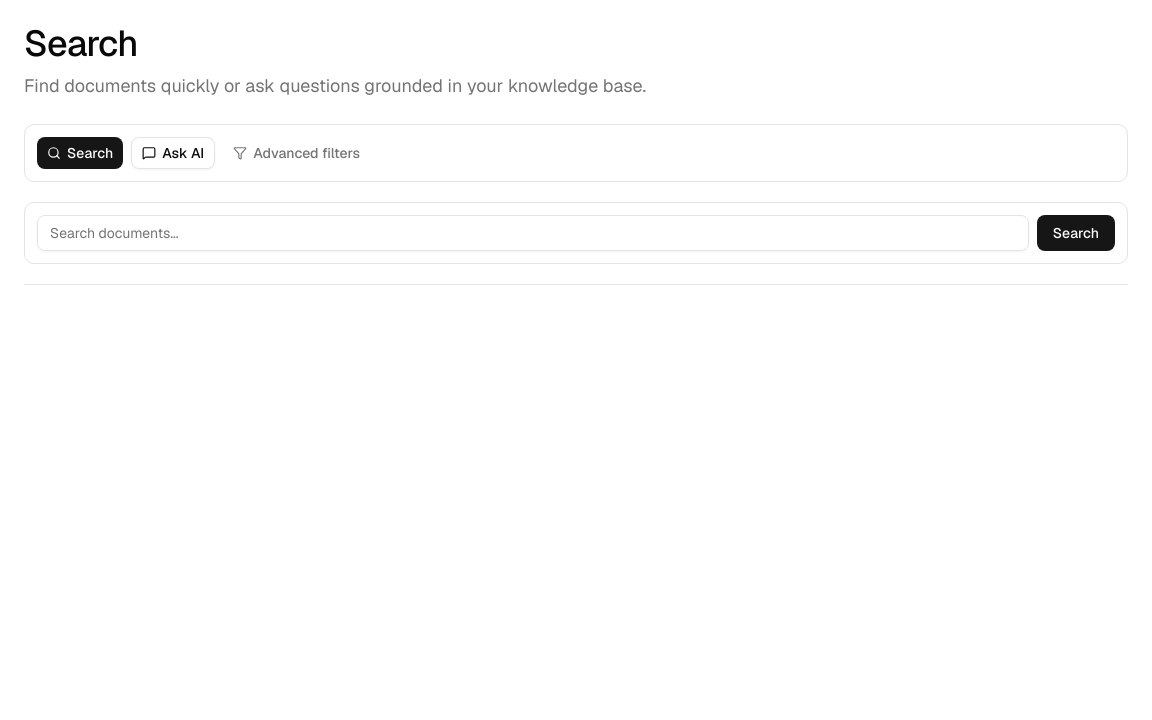
Test: Search Behavior › uses filtered endpoint when advanced filters are set
Click the button with test id "toggle-advanced-filters" at (297, 153), box [223,137,370,169]
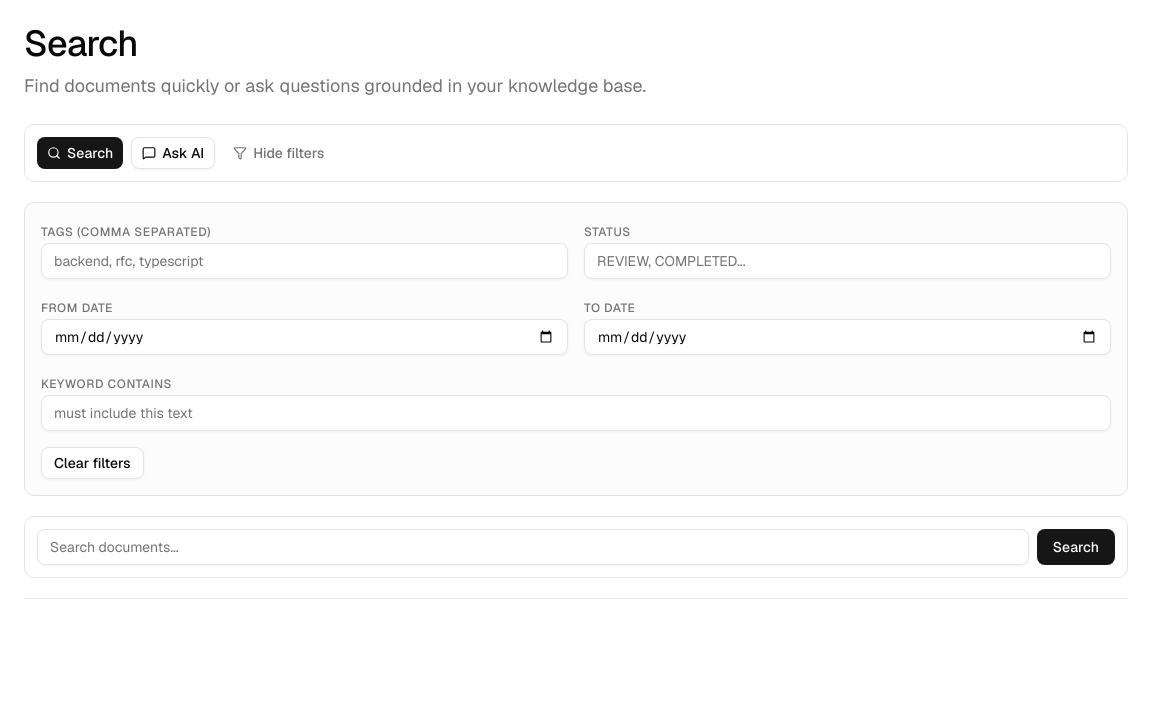
Type "backend, rfc" into the field with test id "filter-tags-input" at (304, 261), box [41,243,568,279]
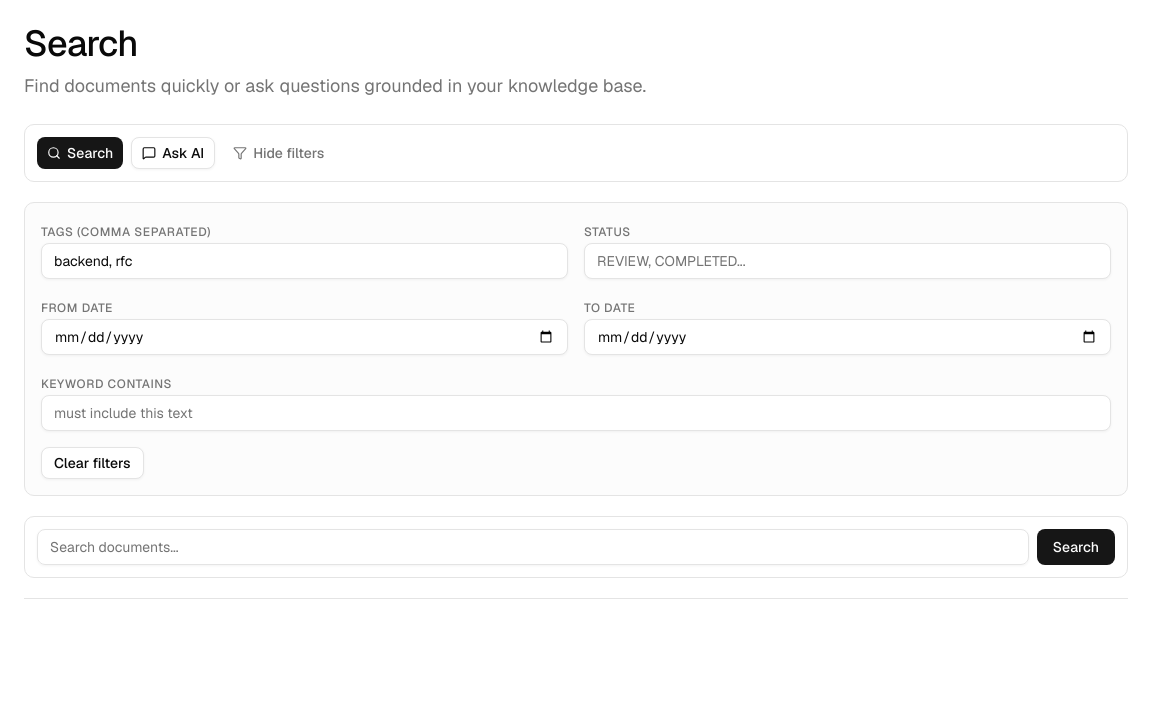
Type "typescript" into the field with test id "search-input" at (533, 547), box [37,529,1029,565]
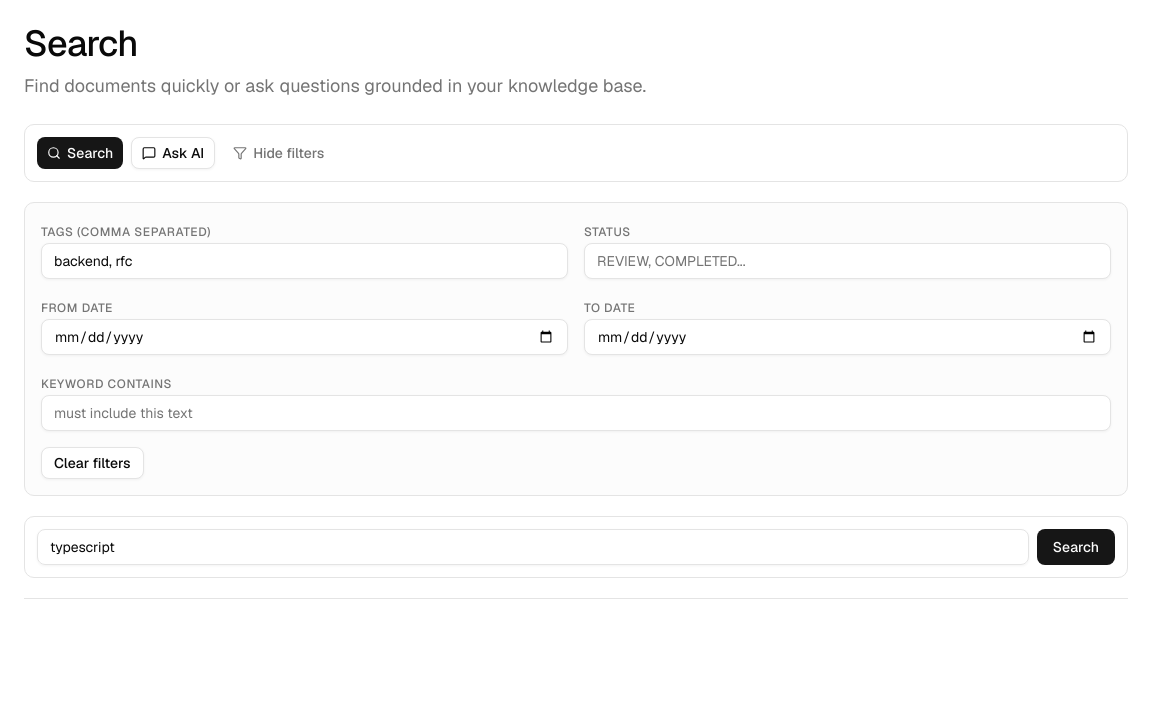
Click the button with test id "search-submit" at (1076, 547), box [1037,529,1115,565]
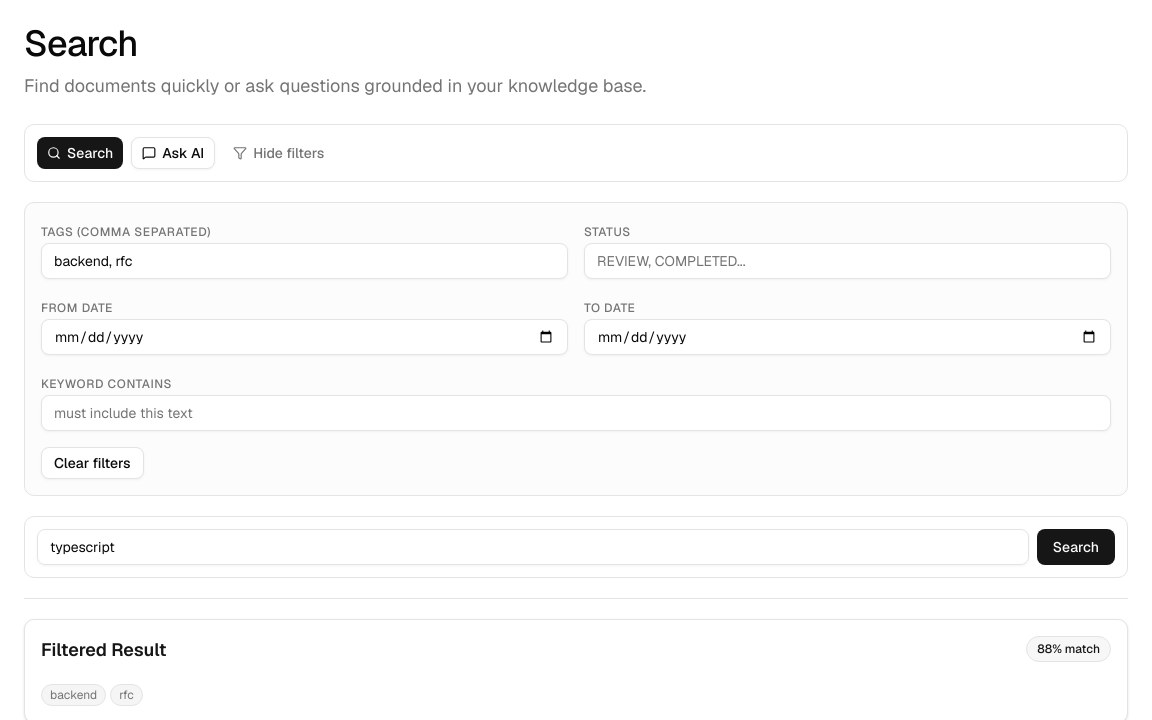
Result: the heading "Filtered Result" is shown at [41,636,166,664]
